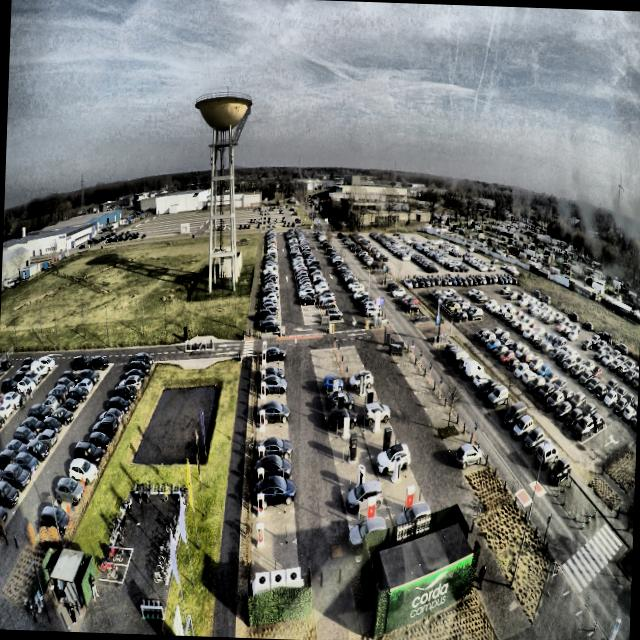cabinet: (255, 566, 301, 588)
car: (255, 474, 296, 511), (255, 454, 292, 481), (258, 399, 291, 424), (257, 437, 293, 457), (260, 373, 288, 395), (262, 346, 288, 363), (258, 365, 285, 380)
parking: (252, 509, 296, 546), (252, 541, 298, 575), (253, 483, 293, 514), (254, 462, 292, 489), (255, 443, 290, 467), (255, 425, 289, 447), (256, 410, 287, 428), (257, 396, 286, 412), (258, 384, 285, 398), (258, 373, 285, 385), (259, 352, 283, 364), (259, 363, 284, 374)
supercharger: (256, 523, 264, 545), (257, 493, 264, 515), (257, 468, 264, 487), (258, 446, 264, 462), (259, 427, 265, 443), (260, 410, 265, 427), (260, 395, 265, 410), (260, 382, 265, 395), (261, 370, 265, 381), (262, 350, 266, 361), (262, 360, 266, 370), (262, 341, 266, 350)
